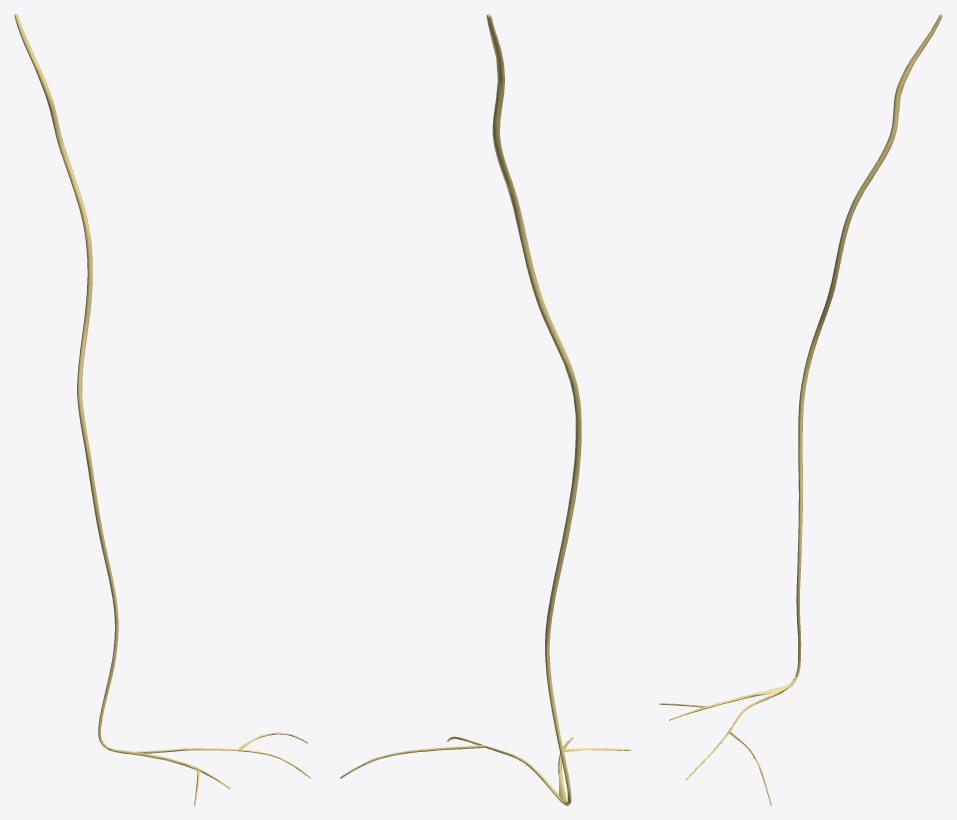
The model's file is fma65387_cx135.glb.
The picture shows the model from 3 angles, left to right: view 1: azimuth 30°, elevation 25°; view 2: azimuth 150°, elevation 25°; view 3: azimuth 270°, elevation 25°; orthographic projection. The views are drawn at different scales.
Visible parts, largest first — view 1: FMA65387_CX135; view 2: FMA65387_CX135; view 3: FMA65387_CX135.
Boxes of the visible parts, bbox=[...] form: FMA65387_CX135: bbox=[14, 14, 311, 805]; FMA65387_CX135: bbox=[340, 14, 630, 805]; FMA65387_CX135: bbox=[659, 14, 942, 805].
Size of the model in its own units: 0.0775 by 0.254 by 0.0939.
